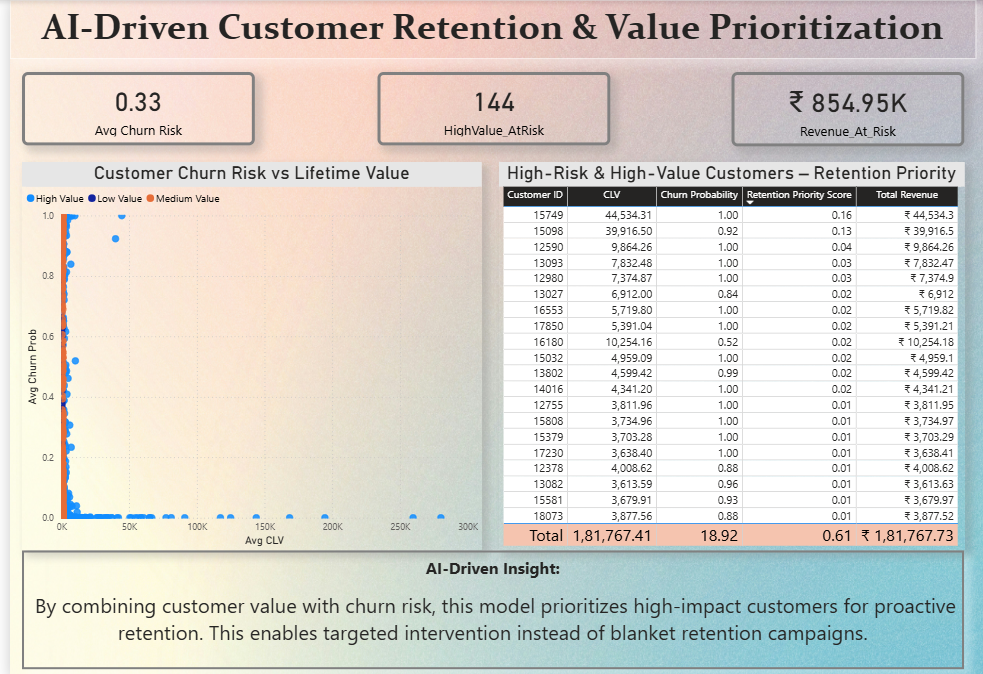

The page's visual inventory and layout, read from the dashboard file:
{"tool":"powerbi","page":{"name":"Value Prioritization","canvas":[1290,900],"ordinal":3},"visuals":[{"type":"textbox","box":[0,0,1280.4,77.9],"z":0},{"type":"card","fields":{"Values":["customer_clv_ai.Avg Churn Risk"]},"box":[15.9,95.4,308.6,97],"z":1000},{"type":"card","fields":{"Values":["customer_clv_ai.HighValue_AtRisk"]},"box":[486.7,95.4,308.6,97],"z":2000},{"type":"card","fields":{"Values":["customer_clv_ai.Revenue_At_Risk"]},"box":[955.8,94.6,308.5,98.4],"z":3000},{"type":"scatterChart","title":"Customer Churn Risk vs Lifetime Value","fields":{"Series":["customer_clv_ai.CLV_Segment"],"X":["Avg(customer_clv_ai.CLV)"],"Y":["Avg(customer_clv_ai.Churn_Probability)"],"Category":["customer_clv_ai.CustomerID"]},"box":[15.2,215.2,609.5,514.2],"z":4000},{"type":"tableEx","title":"High-Risk & High-Value Customers – Retention Priority","fields":{"Values":["customer_clv_ai.CustomerID","Sum(customer_clv_ai.CLV)","Sum(customer_clv_ai.Churn_Probability)","Sum(customer_clv_ai.Retention_Priority_Score)","Sum(customer_clv_ai.TotalRevenue)"]},"box":[647.5,215.2,617.1,514.2],"z":4001},{"type":"textbox","box":[15.9,729.7,1248.6,157.1],"z":4002}]}

Visuals, with their boxes in screenshot pixels (x1, y1, x2, y2), scaled from the page's 1290x900 canvas onto the 983x674 screenshot:
textbox: 0/0/976/58
card - customer_clv_ai.Avg Churn Risk: 12/71/247/144
card - customer_clv_ai.HighValue_AtRisk: 371/71/606/144
card - customer_clv_ai.Revenue_At_Risk: 728/71/963/145
"Customer Churn Risk vs Lifetime Value" scatterChart: 12/161/476/546
"High-Risk & High-Value Customers – Retention Priority" tableEx: 493/161/964/546
textbox: 12/546/964/664
